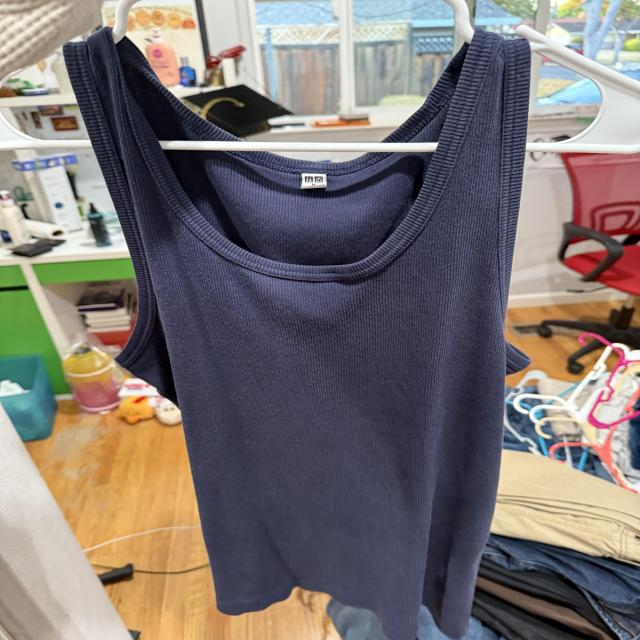back_tag: (298, 171, 328, 193)
